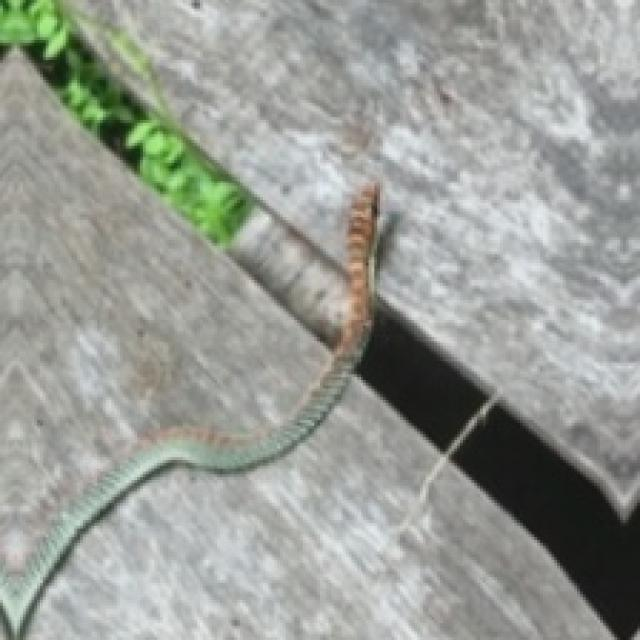paradise tree snake: (0, 183, 377, 637)
